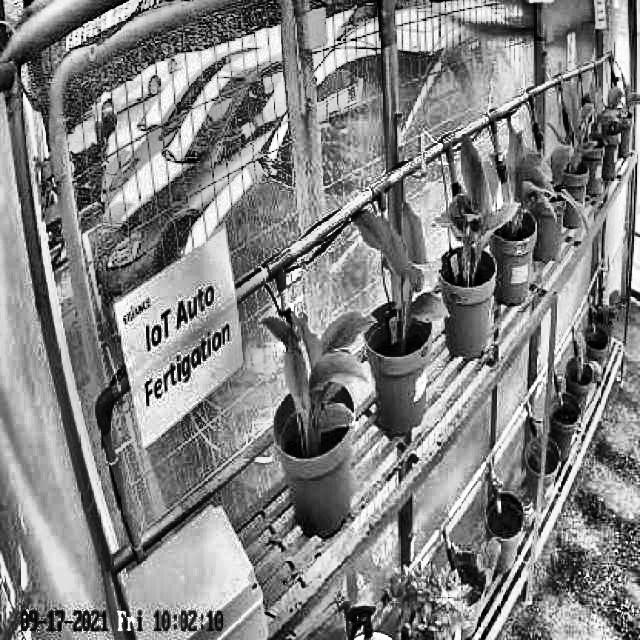plants: (262, 314, 376, 444), (352, 205, 450, 324), (430, 134, 507, 268), (502, 119, 553, 234), (566, 94, 594, 178), (616, 63, 638, 119)
